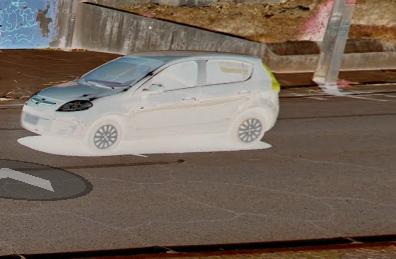car: (19, 37, 285, 166)
